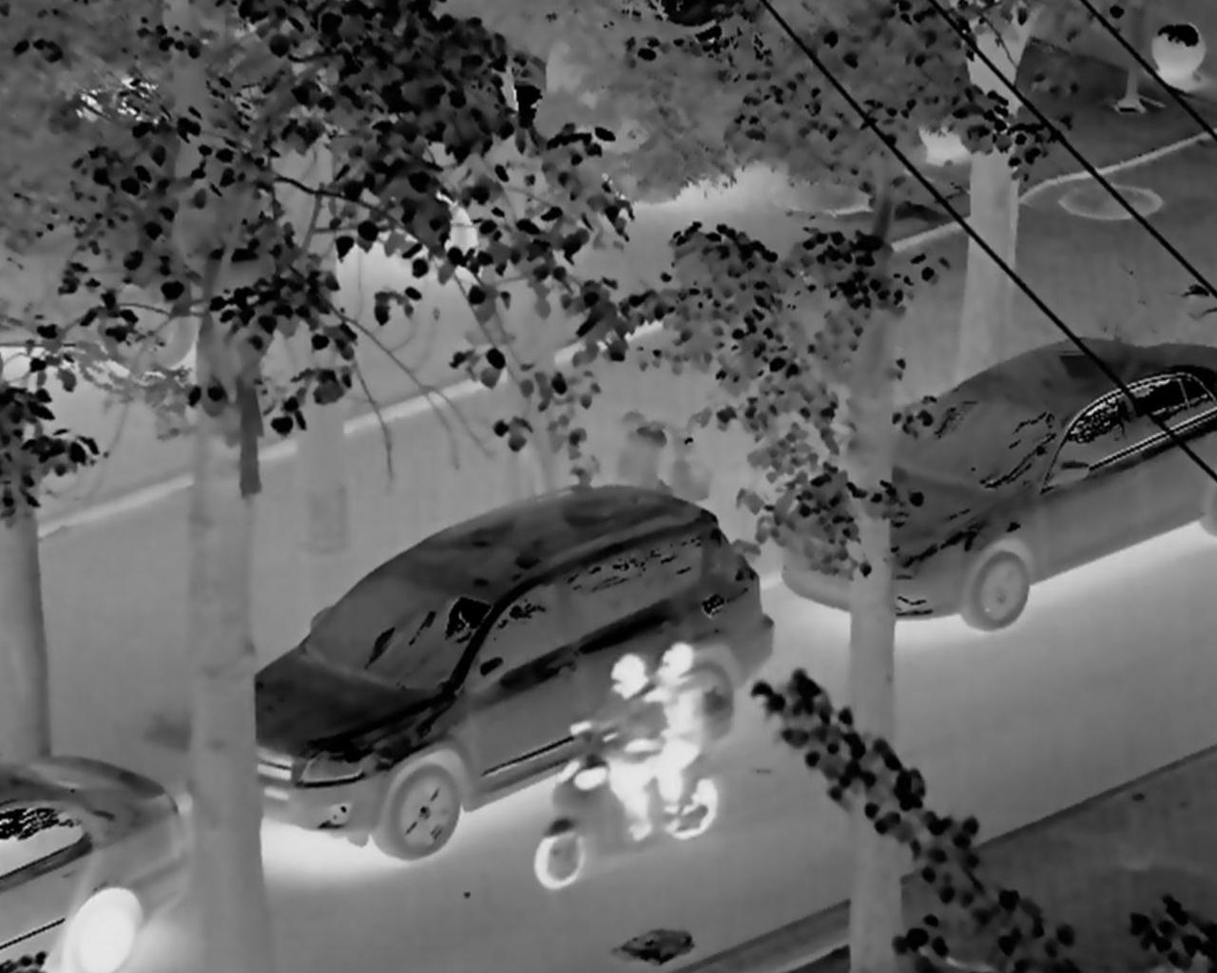person: (542, 649, 659, 861), (647, 628, 717, 849)
